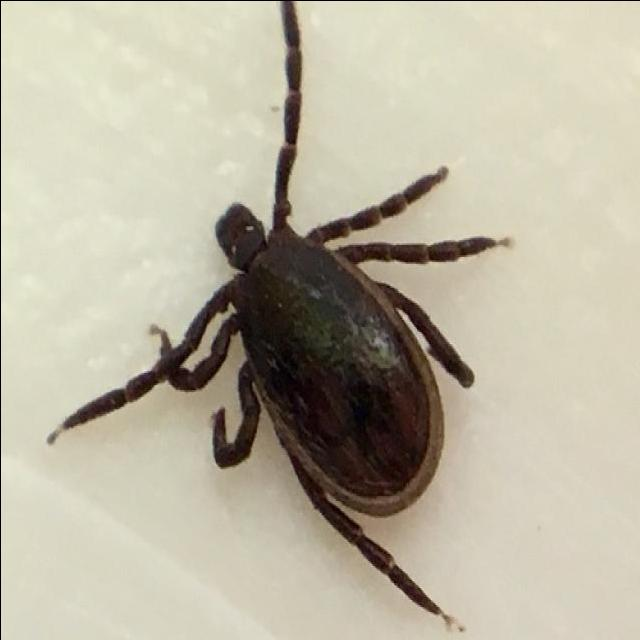Ixodes Ricinus-M: (55, 0, 509, 616)
